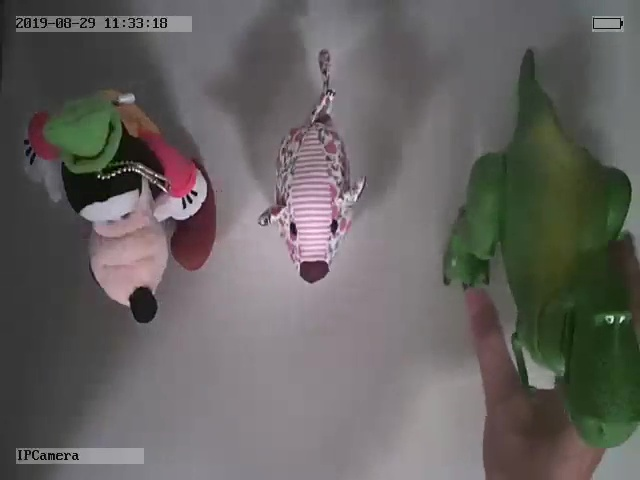goofy: (18, 85, 217, 325)
pig: (257, 48, 367, 285)
rex: (441, 47, 640, 451)
